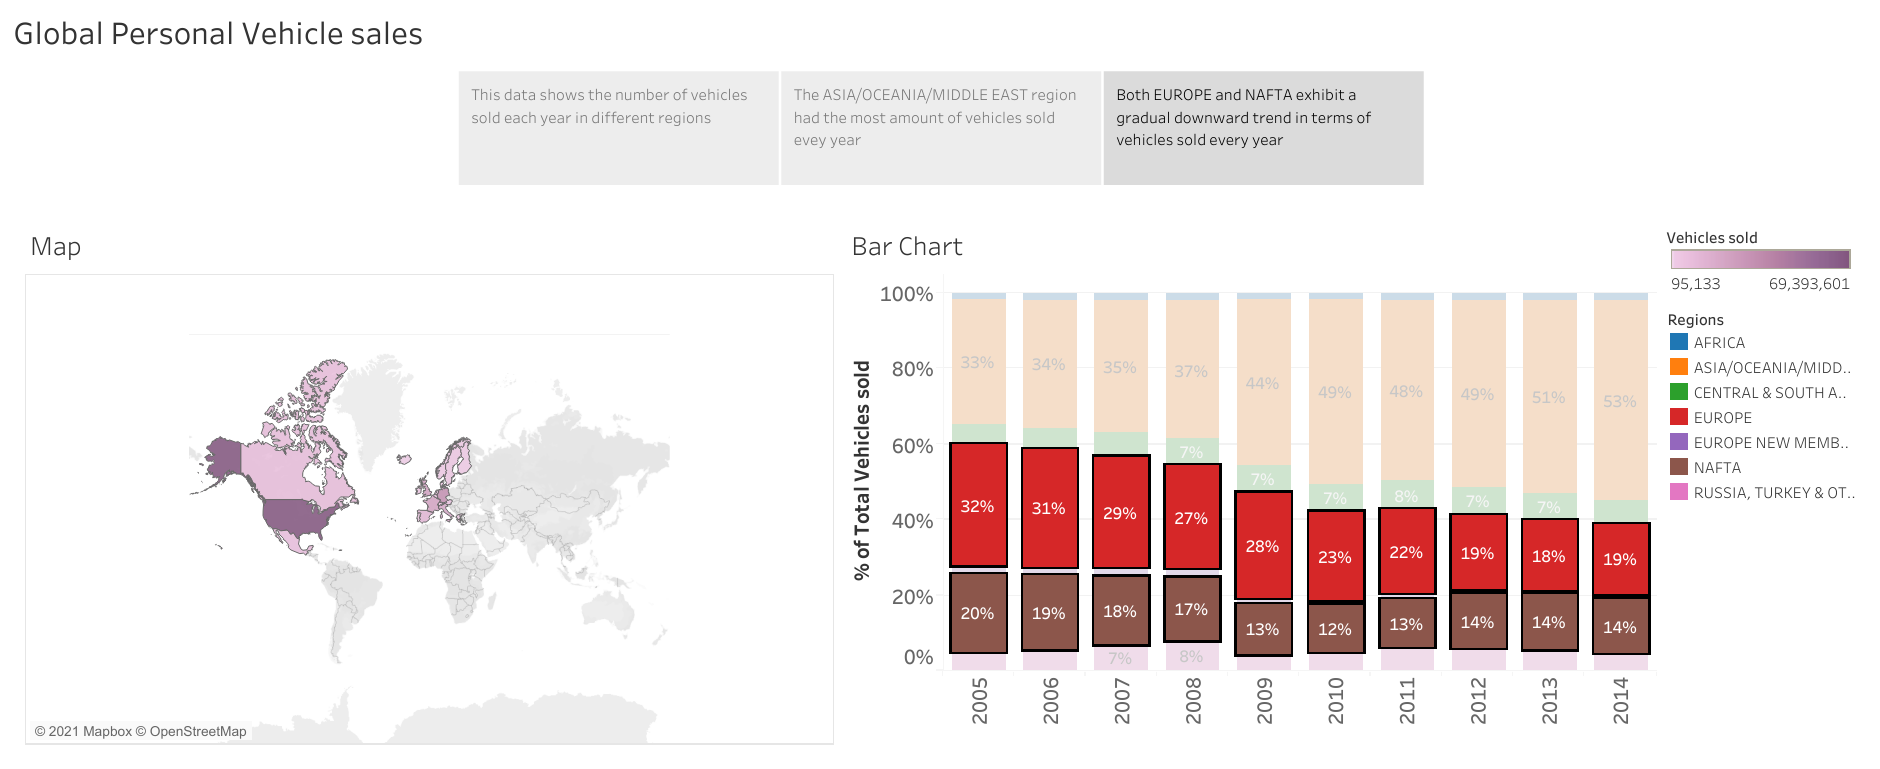

The page's visual inventory and layout, read from the dashboard file:
{"tool":"tableau","page":{"name":"Dashboard 1","canvas":[1000,1000],"units":"permille","ordinal":0},"visuals":[{"type":"worksheet","title":"Map","mark":"Automatic","box":[4.8,9.2,446.9,981.7]},{"type":"worksheet","title":"Bar Chart","mark":"Automatic","cols":["Pivot Field Names"],"box":[451.7,9.2,446.9,981.7]},{"type":"legend","title":"Map","param":"[federated.00yqml90dr8esh1dftrlm193h1nq].[sum:Pivot Field Values:qk]","box":[898.6,9.2,96.6,83.6]},{"type":"legend","title":"Bar Chart","param":"[federated.00yqml90dr8esh1dftrlm193h1nq].[none:Regions:nk]","box":[898.6,92.8,96.6,213.1]}]}

Visuals, with their boxes on the dashboard's canvas, which has no fixed pixel size, in thousandths of its width and height (x1, y1, x2, y2). These are canvas units, not pixel positions in the 1880x769 screenshot, which may show the page scaled, cropped or inside an application window:
"Map" worksheet: {"x1": 5, "y1": 9, "x2": 452, "y2": 991}
"Bar Chart" worksheet: {"x1": 452, "y1": 9, "x2": 899, "y2": 991}
"Map" legend: {"x1": 899, "y1": 9, "x2": 995, "y2": 93}
"Bar Chart" legend: {"x1": 899, "y1": 93, "x2": 995, "y2": 306}
